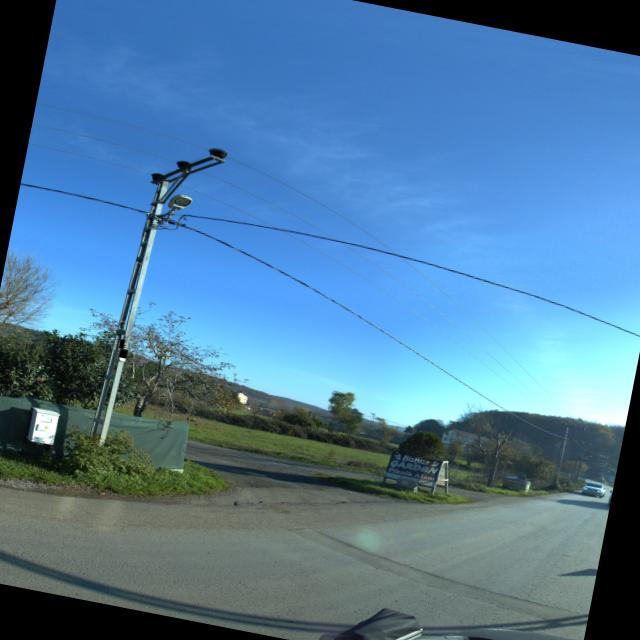Utility Pole Information Plate: (120, 349, 127, 359), (119, 340, 125, 349)
